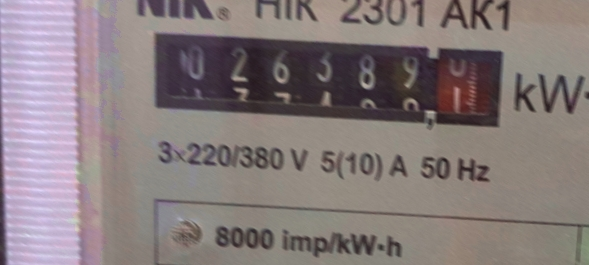0: (182, 43, 208, 84), (447, 58, 467, 80)
1: (448, 85, 463, 117)
2: (226, 45, 252, 86)
3: (314, 51, 333, 87)
6: (270, 48, 291, 88)
8: (355, 54, 379, 93)
9: (399, 56, 419, 91)
screen: (134, 14, 520, 148)
